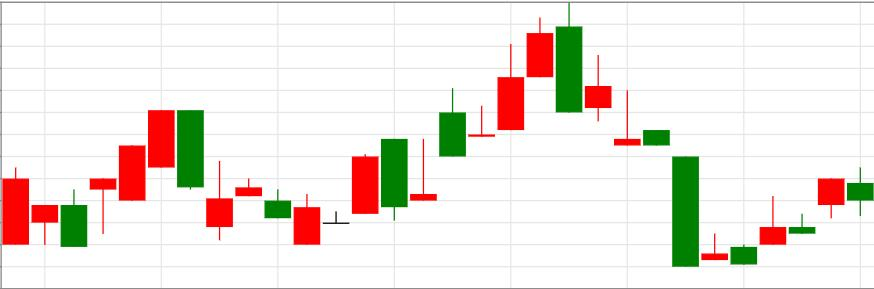bearish_engulfing_fall: (351, 2, 583, 221), (61, 109, 204, 246)
